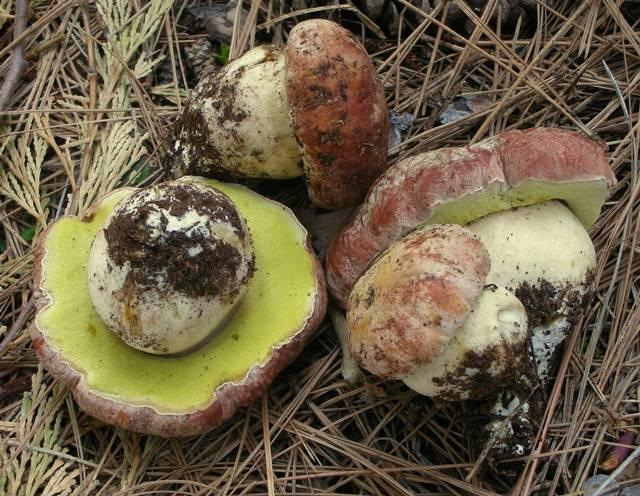edible_mushroom: (28, 173, 327, 438), (344, 127, 610, 402), (169, 14, 388, 209), (86, 176, 255, 357)
